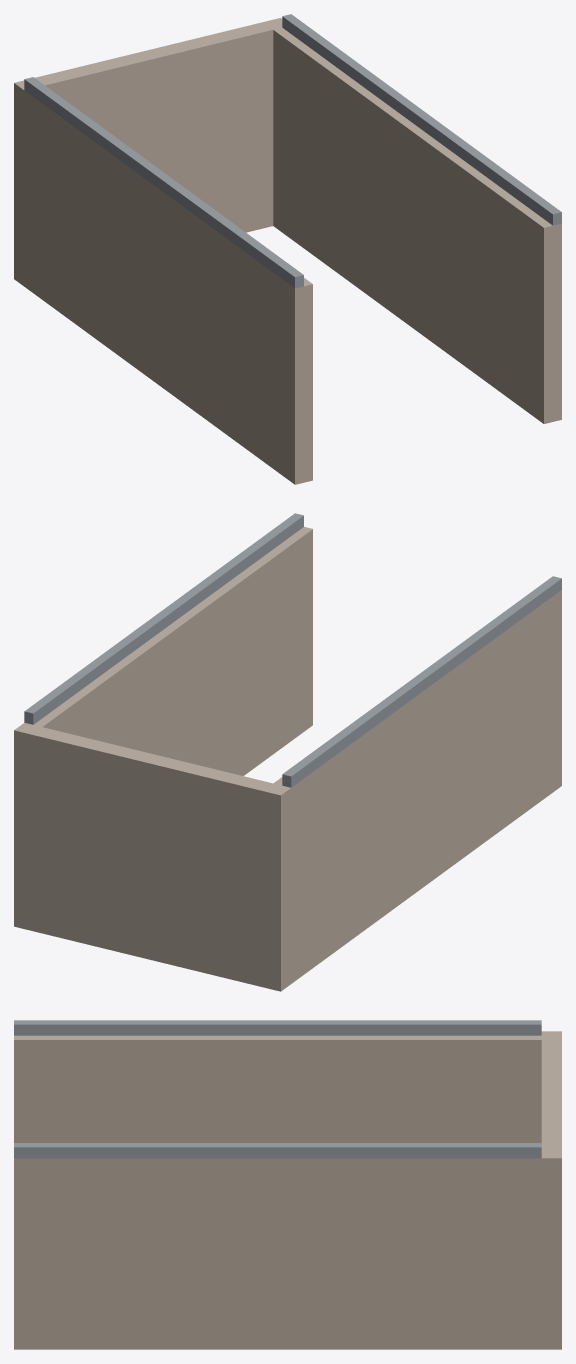
The model's file is garage_open.glb.
3 renders of one model, top to bottom at view 1: azimuth 30°, elevation 25°; view 2: azimuth 150°, elevation 25°; view 3: azimuth 270°, elevation 25°, orthographic. The views are drawn at different scales.
Parts seen in each view (by area): view 1: garage_open; view 2: garage_open; view 3: garage_open.
Boxes of the visible parts, <box> form: garage_open: <box>14,14,561,484</box>; garage_open: <box>14,513,561,991</box>; garage_open: <box>14,1020,561,1349</box>.
Size of the model in its own units: 3.7 by 2.75 by 6.75.
